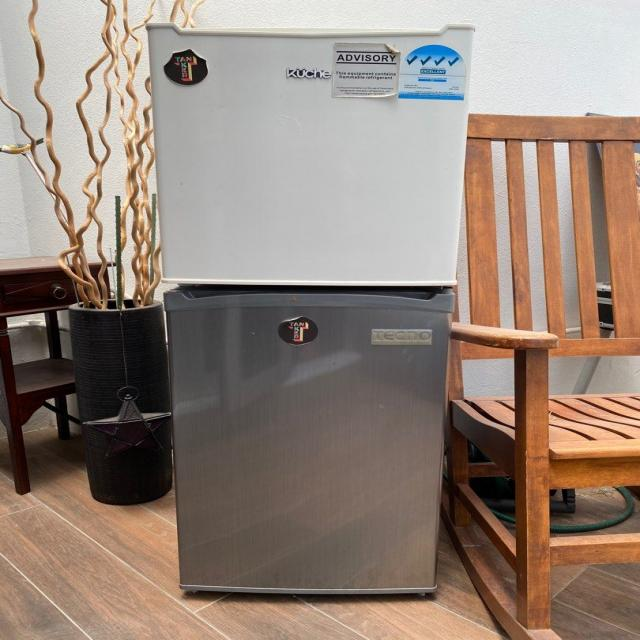refrigerator: (146, 22, 479, 594)
